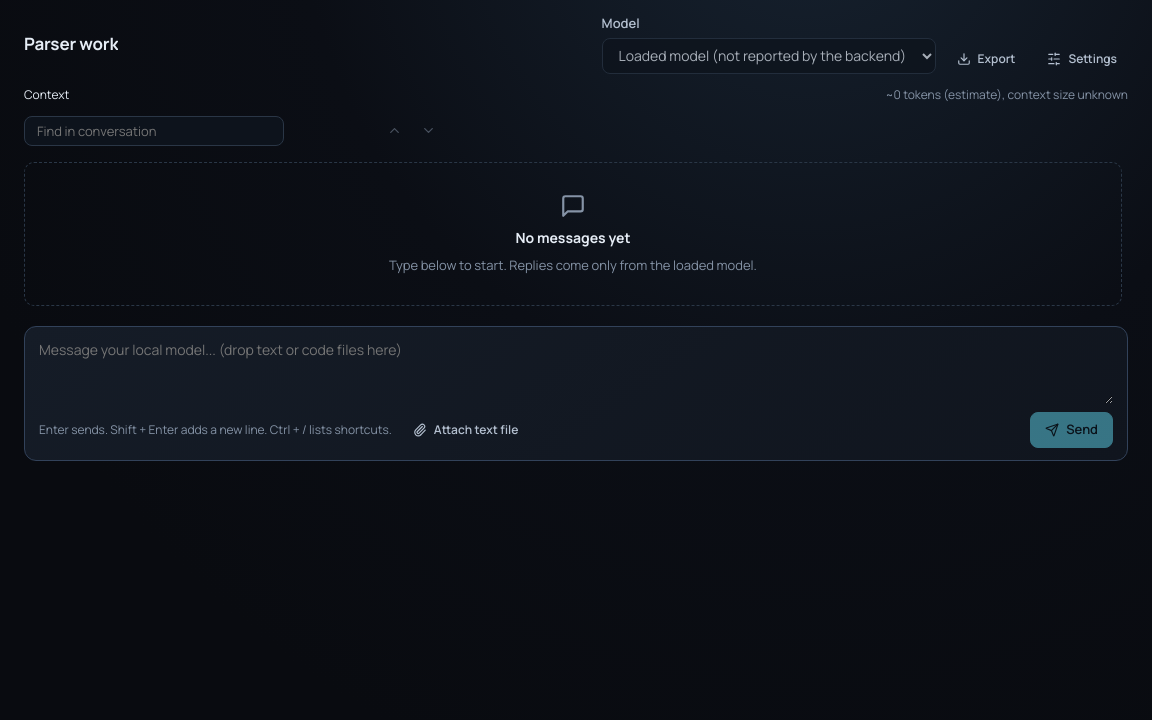
Test: ChatPanel export › shows a failed export as an error, not as saved
Click the button "Export" at (986, 58), box [946,44,1026,74]
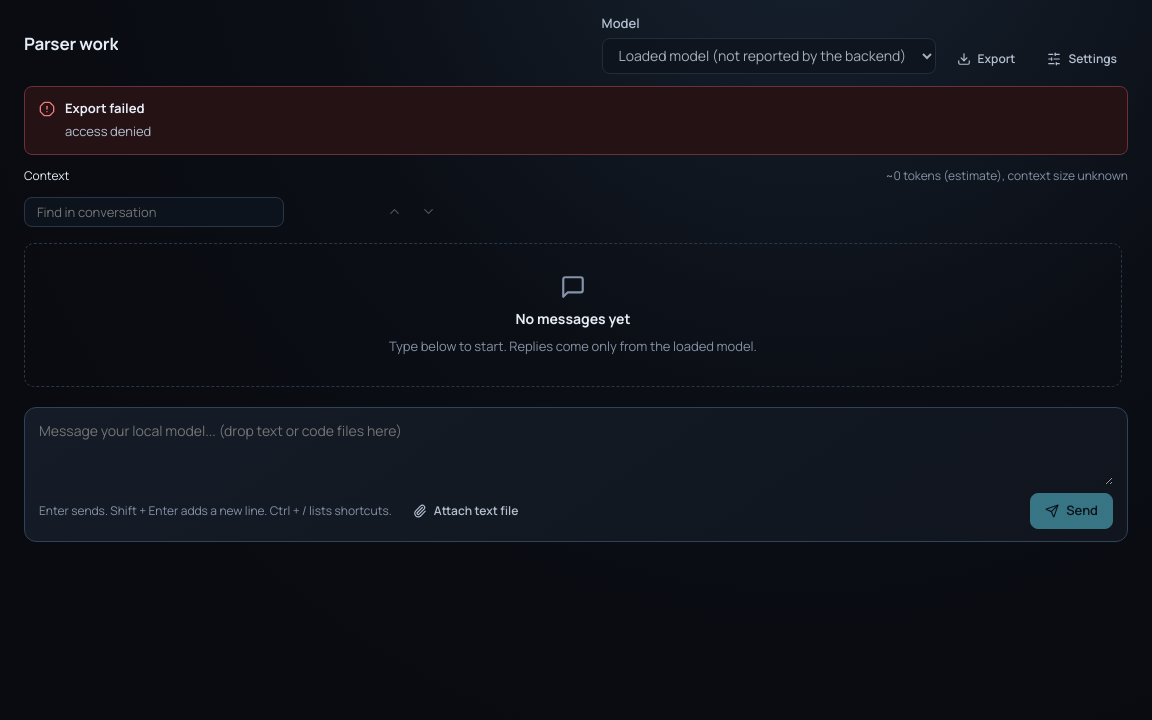
Now the text "Export failed" is shown, box [65,98,145,116]
Now the text "access denied" is shown, box [65,122,151,140]
